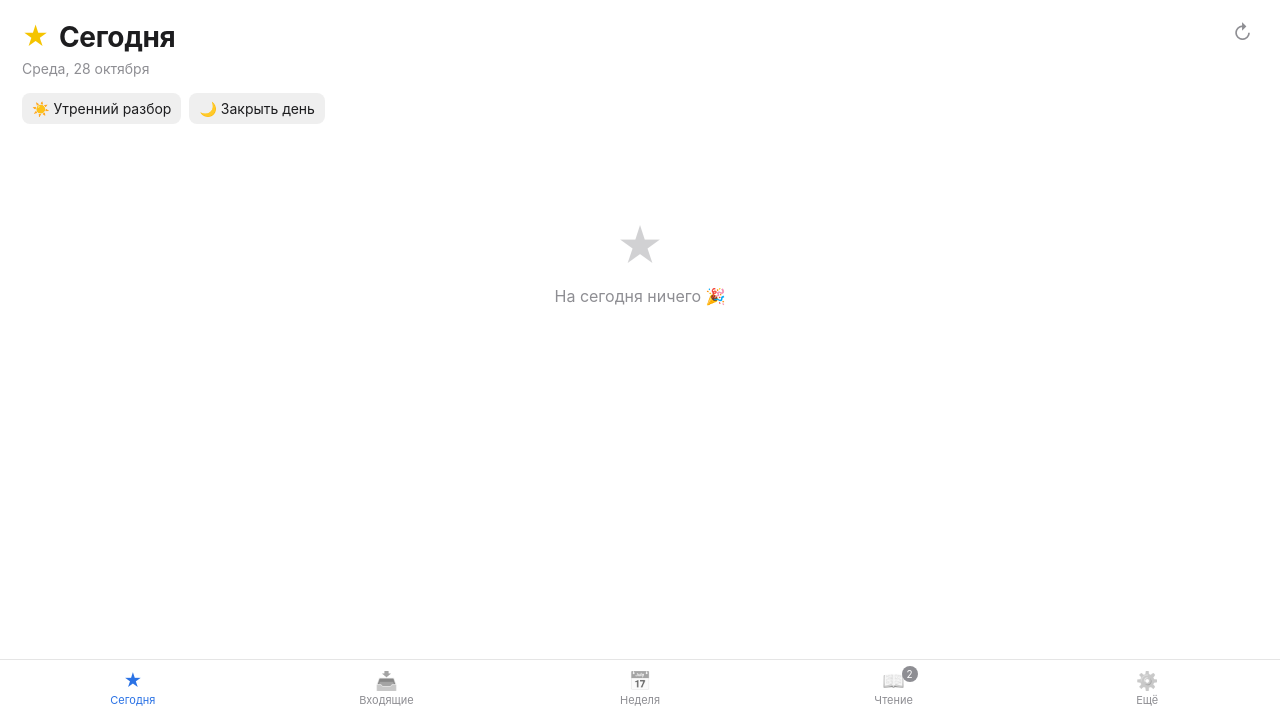
Test: Чтение › материал открывается, кэшируется и отмечается прочитанным
Step 1. Click the tab "📖 Чтение 2" → (894, 689), box [767, 666, 1020, 712]
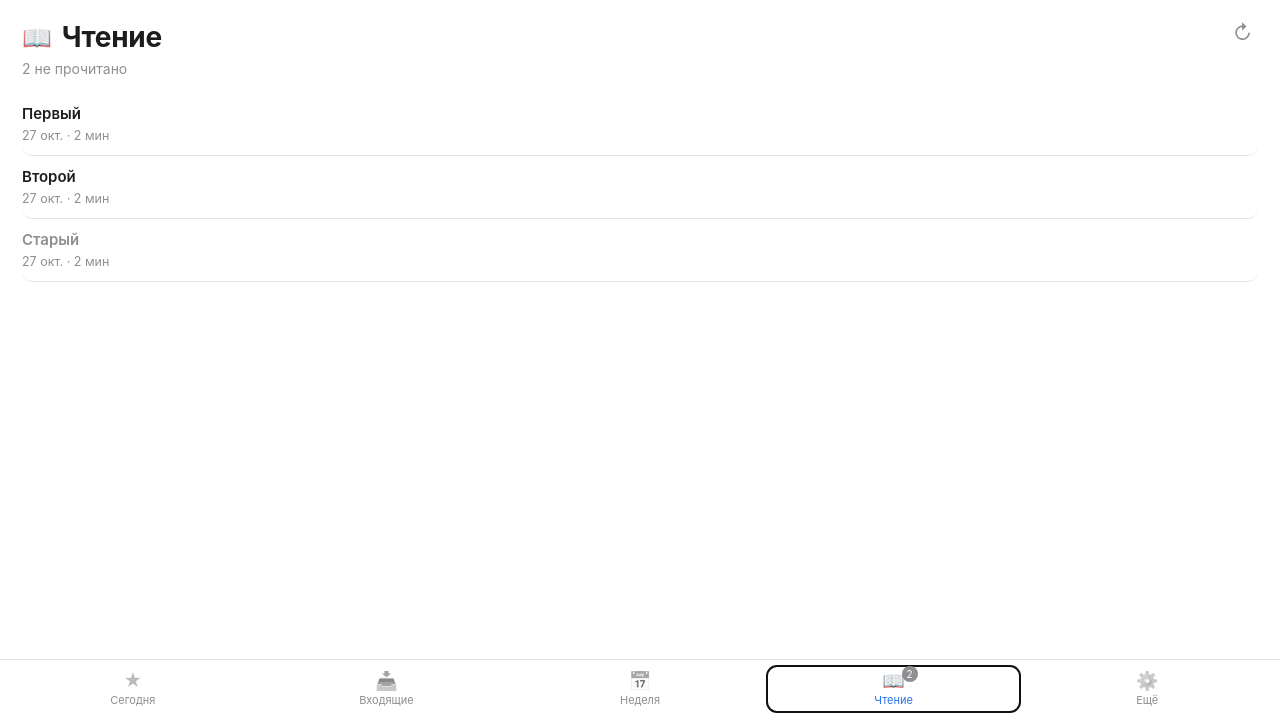
Step 2. Click the text "Первый" → (52, 113), box [22, 104, 81, 123]
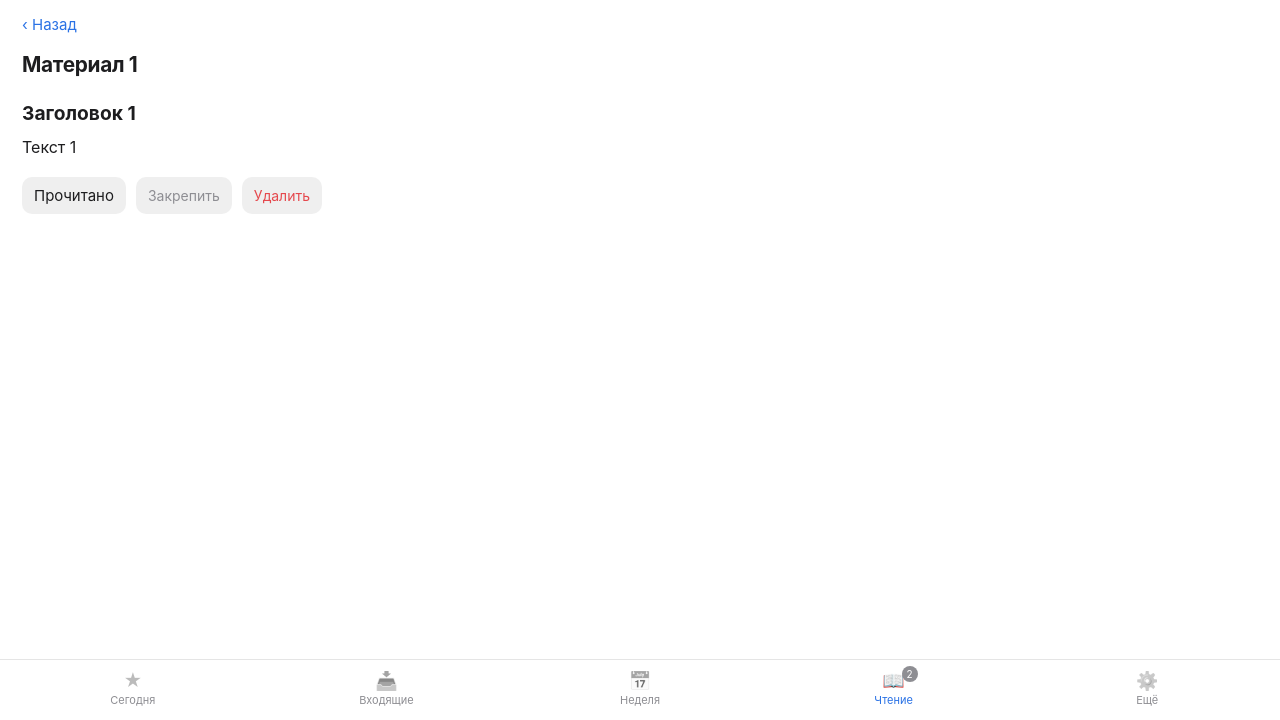
Now the heading "Заголовок 1" is shown, box [22, 101, 136, 125]
Step 3. Click the button "Прочитано" → (74, 195), box [22, 177, 126, 214]
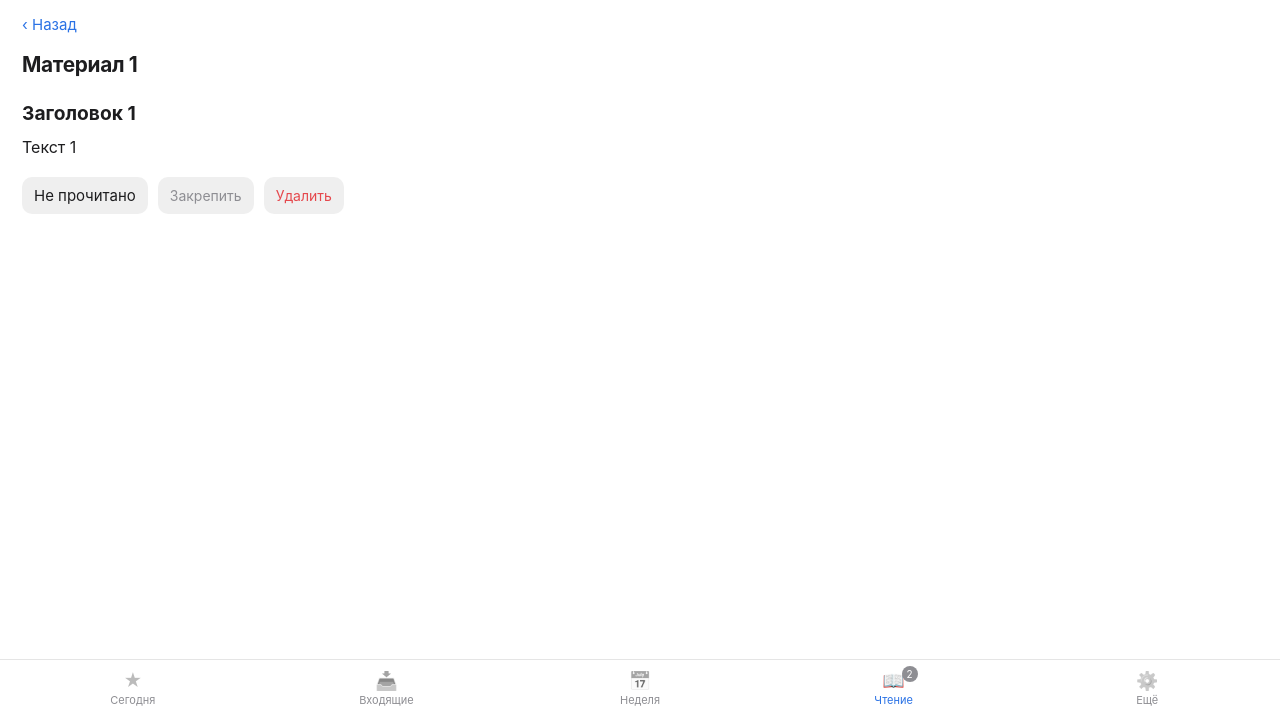
Now the button "Не прочитано" is shown, box [22, 177, 148, 214]
